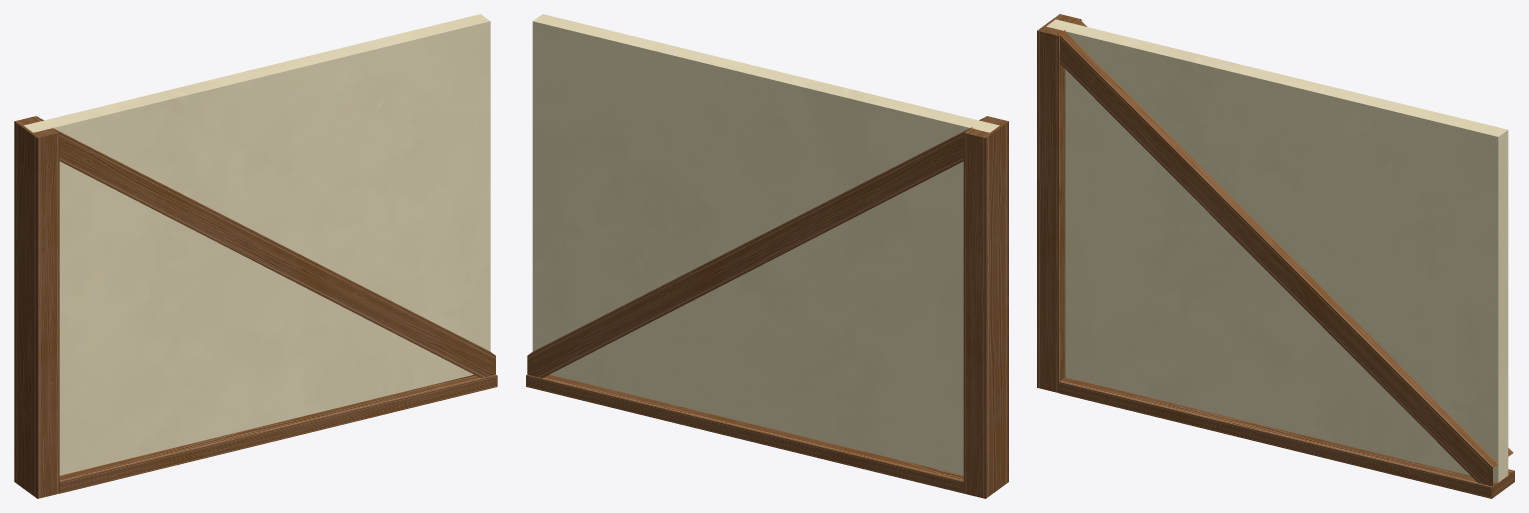
The model's file is SM_Large_Wall_02_wcream.glb.
3 renders of one model, left to right at view 1: azimuth 30°, elevation 25°; view 2: azimuth 150°, elevation 25°; view 3: azimuth 330°, elevation 25°, orthographic.
Visible parts, largest first — view 1: SM_Large_Wall_02; view 2: SM_Large_Wall_02; view 3: SM_Large_Wall_02.
Part boxes in pixels (x1,y1,x2,y2): SM_Large_Wall_02: (14,14,497,498); SM_Large_Wall_02: (526,14,1008,498); SM_Large_Wall_02: (1037,14,1514,498).
Size of the model in its own units: 4 by 3.01 by 0.3524.
2 materials, 2 textured.
